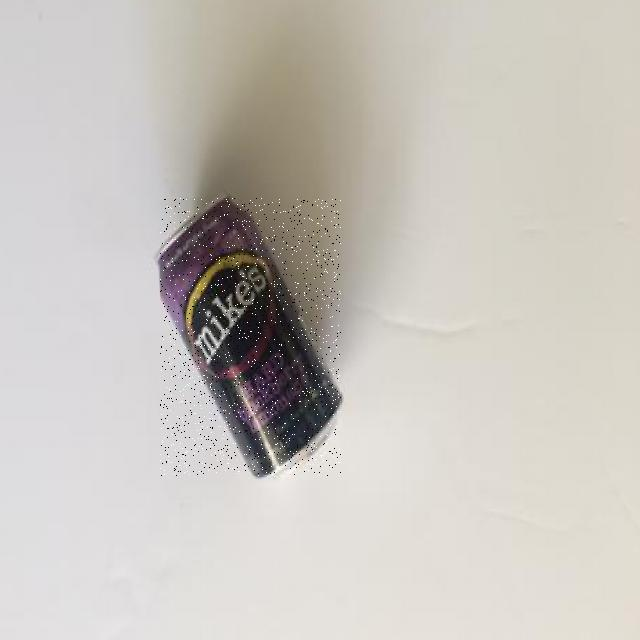metal: (161, 198, 341, 476)
